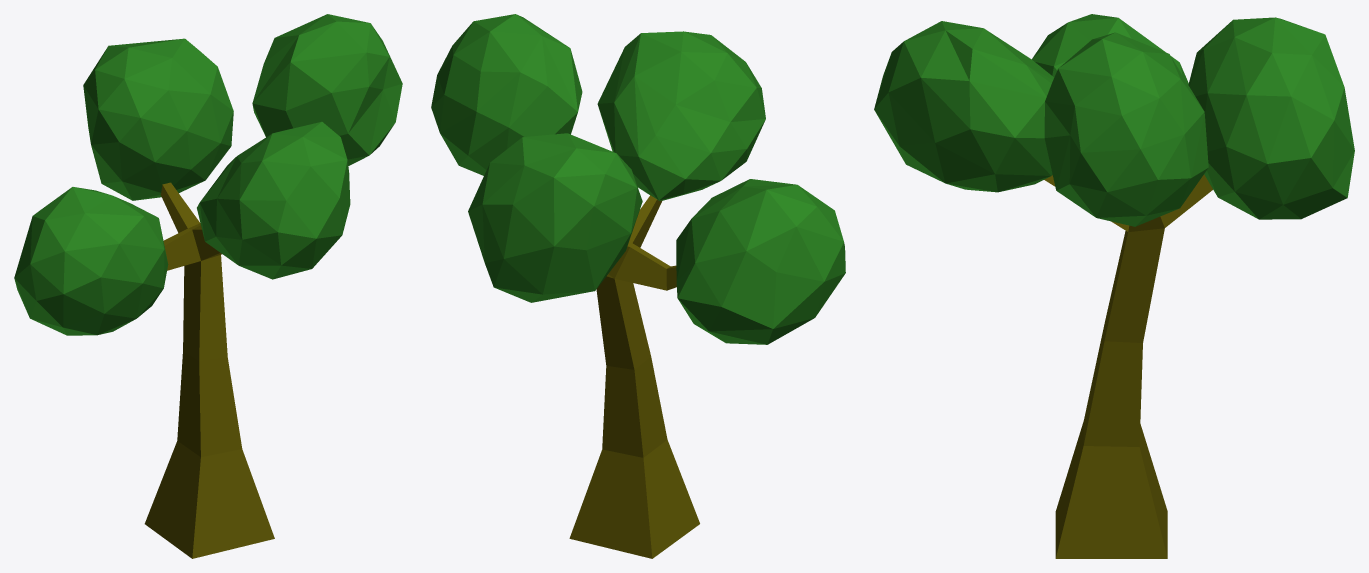
File: Jungle Tree Big X.fbx
3 views of the same model, side by side, from view 1: azimuth 30°, elevation 25°; view 2: azimuth 150°, elevation 25°; view 3: azimuth 270°, elevation 25° (orthographic). The views are drawn at different scales.
Visible parts, largest first — view 1: Tree.001; view 2: Tree.001; view 3: Tree.001.
Part boxes in pixels (x1,y1,x2,y2): Tree.001: (14, 14, 402, 558); Tree.001: (431, 14, 845, 558); Tree.001: (874, 14, 1354, 558).
Size of the model in its own units: 9.2 by 8.58 by 11.16.
